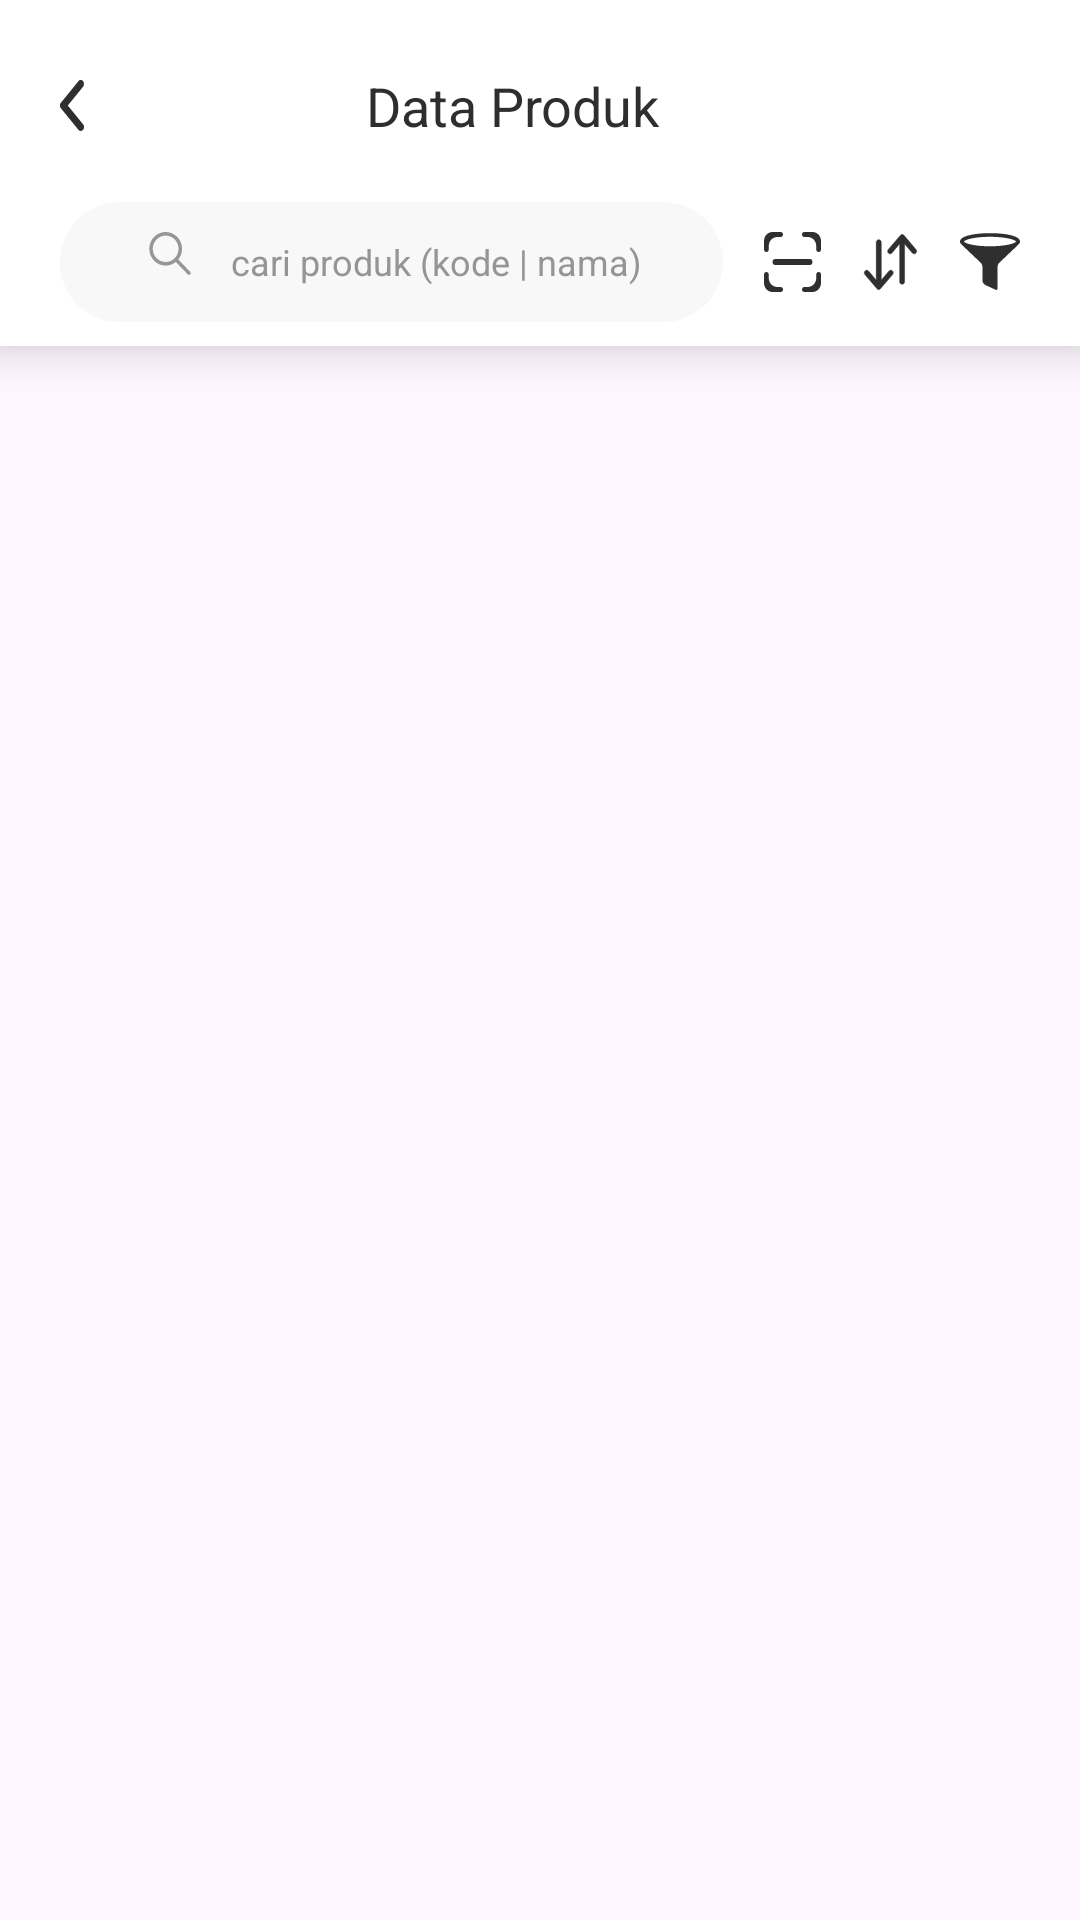

Screen size 1080 × 1920. Icon name, then its center in pixels as (x=x, y=y):
back: (x=72, y=105)
barcode: (x=792, y=262)
filter: (x=990, y=261)
search: (x=170, y=253)
sort: (x=890, y=262)
